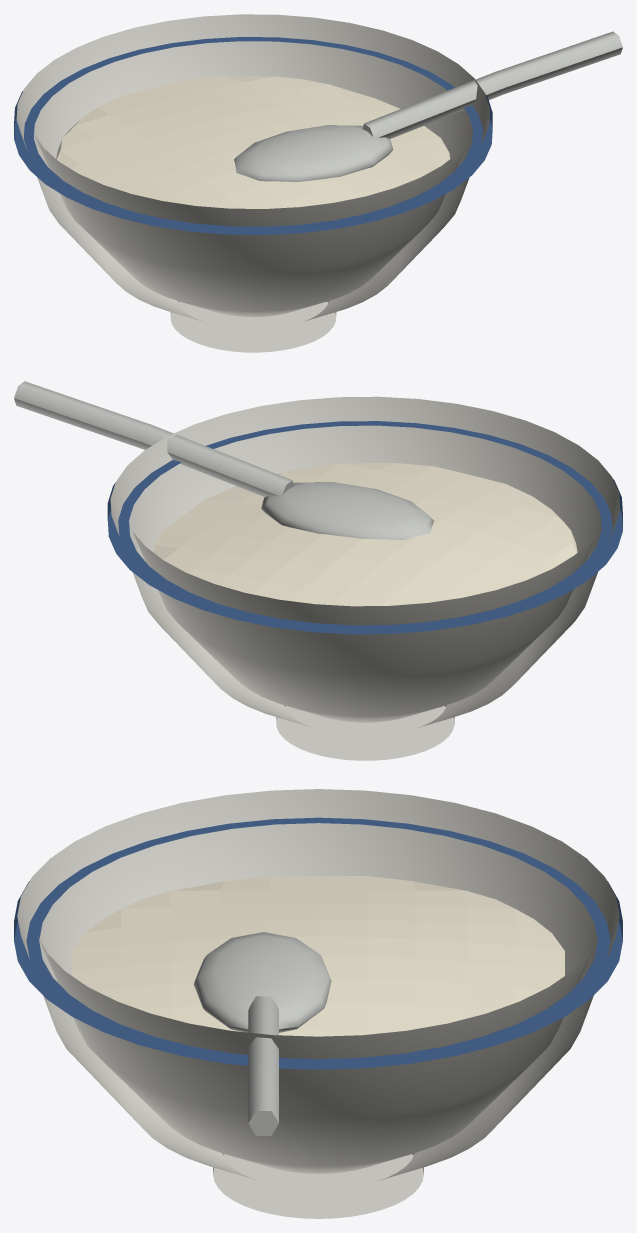
File: BatChao_An.glb
3 renders of one model, top to bottom at view 1: azimuth 30°, elevation 25°; view 2: azimuth 150°, elevation 25°; view 3: azimuth 270°, elevation 25°, orthographic. The views are drawn at different scales.
Parts seen in each view (by area): view 1: geometry_0; view 2: geometry_0; view 3: geometry_0.
Part boxes in pixels (x1,y1,x2,y2): geometry_0: (14,14,622,352); geometry_0: (14,381,622,760); geometry_0: (14,789,622,1218).
Size of the model in its own units: 0.1474 by 0.0554 by 0.1112.
